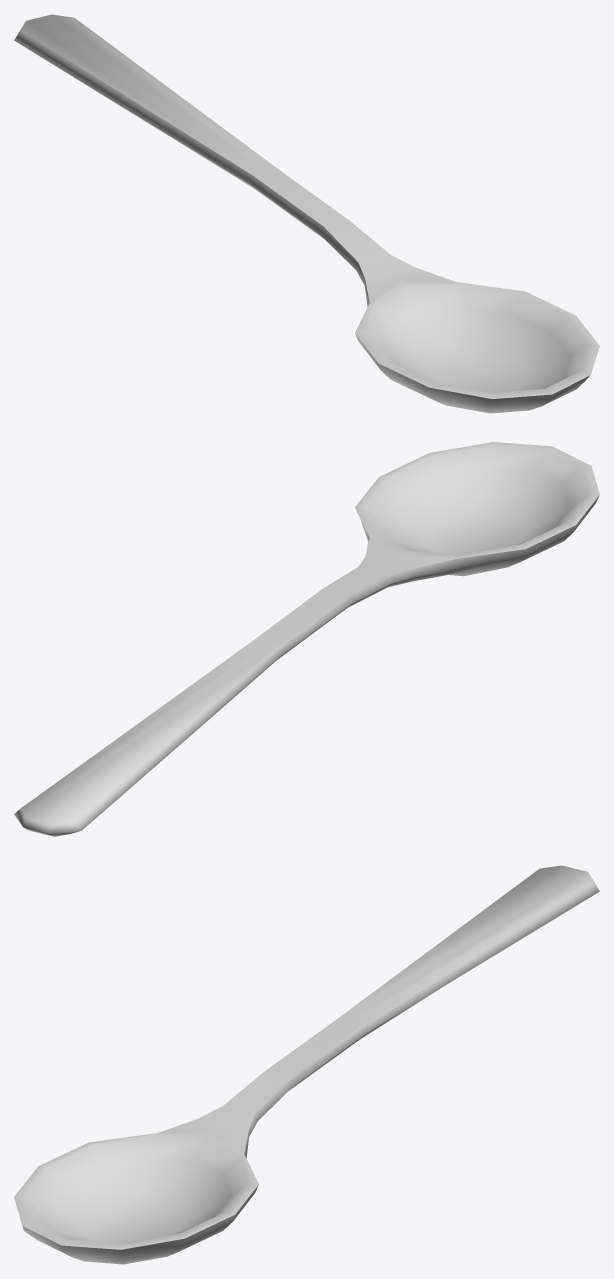
File: SoupSpoon_01.fbx
3 renders of one model, top to bottom at view 1: azimuth 30°, elevation 25°; view 2: azimuth 150°, elevation 25°; view 3: azimuth 330°, elevation 25°, orthographic.
Visible parts, largest first — view 1: SoupSpoon_01; view 2: SoupSpoon_01; view 3: SoupSpoon_01.
Part boxes in pixels (x1,y1,x2,y2): SoupSpoon_01: [14, 14, 599, 413]; SoupSpoon_01: [14, 442, 599, 836]; SoupSpoon_01: [14, 865, 599, 1264].
Size of the model in its own units: 0.0398 by 0.0109 by 0.1804.
